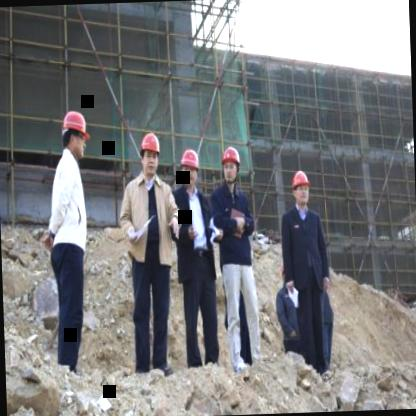helmet: (60, 108, 90, 160), (288, 166, 314, 210), (138, 131, 162, 176), (218, 145, 242, 188), (177, 146, 201, 188)
